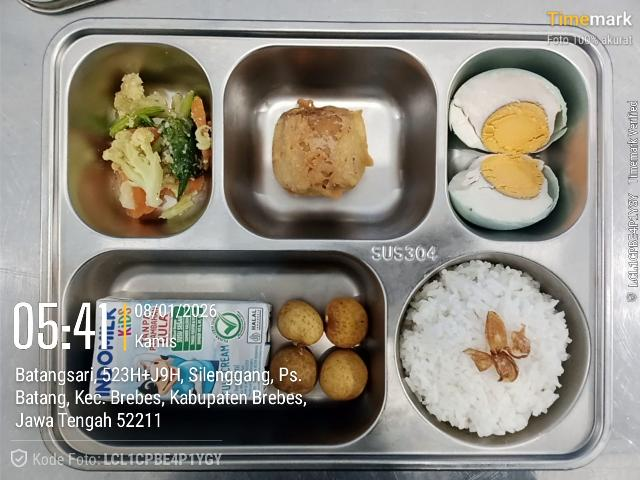buah: (274, 298, 368, 400)
nasi: (400, 260, 572, 436)
sayur: (102, 73, 212, 219)
susu: (90, 298, 271, 403)
tahu: (272, 99, 373, 198), (487, 91, 546, 206)
telur: (448, 68, 567, 230)
